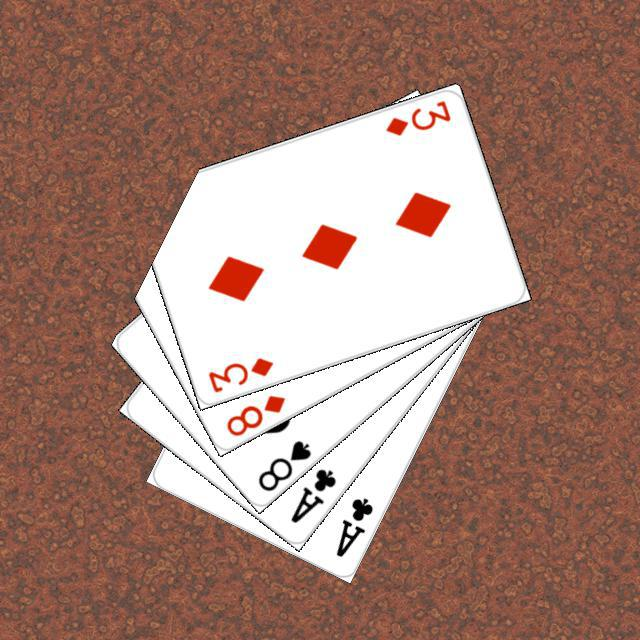3d: (203, 352, 275, 395), (381, 95, 453, 138)
8d: (221, 389, 287, 438)
8s: (252, 435, 313, 494)
Ac: (285, 463, 338, 525), (330, 492, 375, 559)
